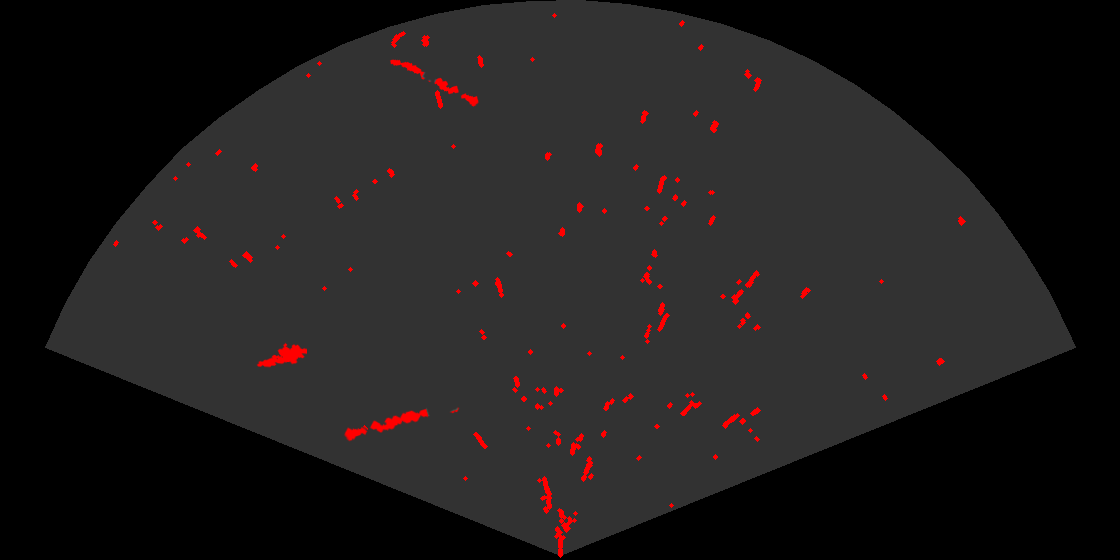chain: (389, 58, 480, 108), (342, 406, 461, 443)
frogman: (256, 341, 307, 369)
